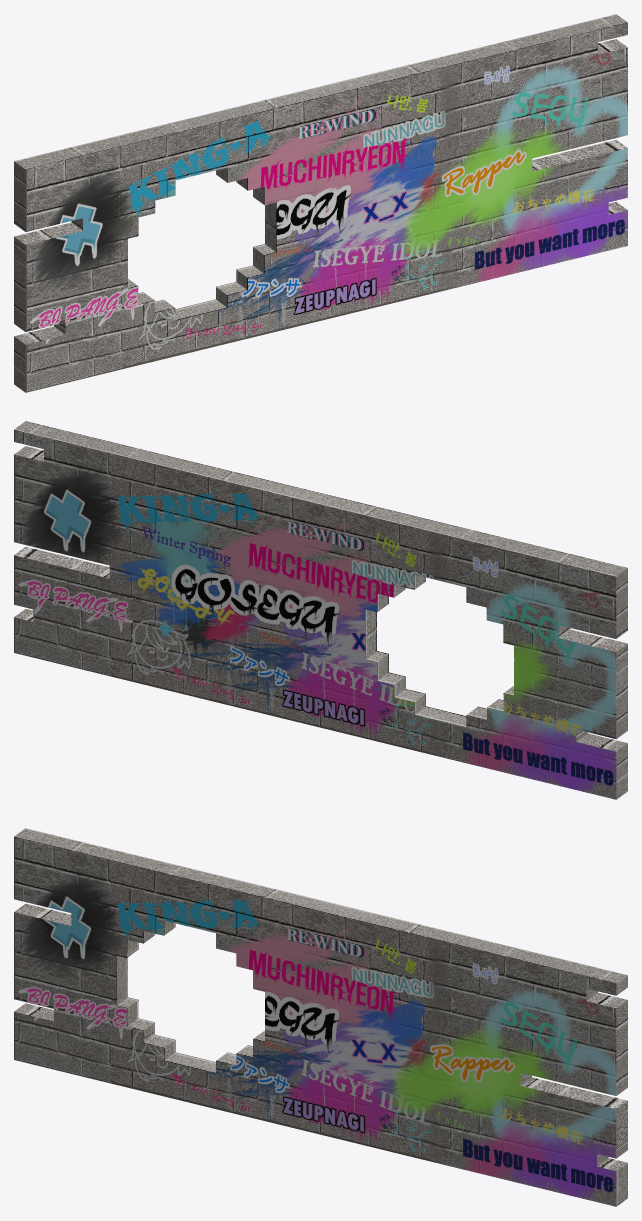
File: Wall2_L.FBX
3 renders of one model, top to bottom at view 1: azimuth 30°, elevation 25°; view 2: azimuth 150°, elevation 25°; view 3: azimuth 330°, elevation 25°, orthographic.
Visible parts, largest first — view 1: Wall; view 2: Wall; view 3: Wall.
Boxes of the visible parts, x1,y1,x2,y2 form: Wall: (14,14,627,392); Wall: (14,421,627,799); Wall: (14,828,627,1206).
Bounding box in the file's own units: 173 × 61.26 × 5.79.
